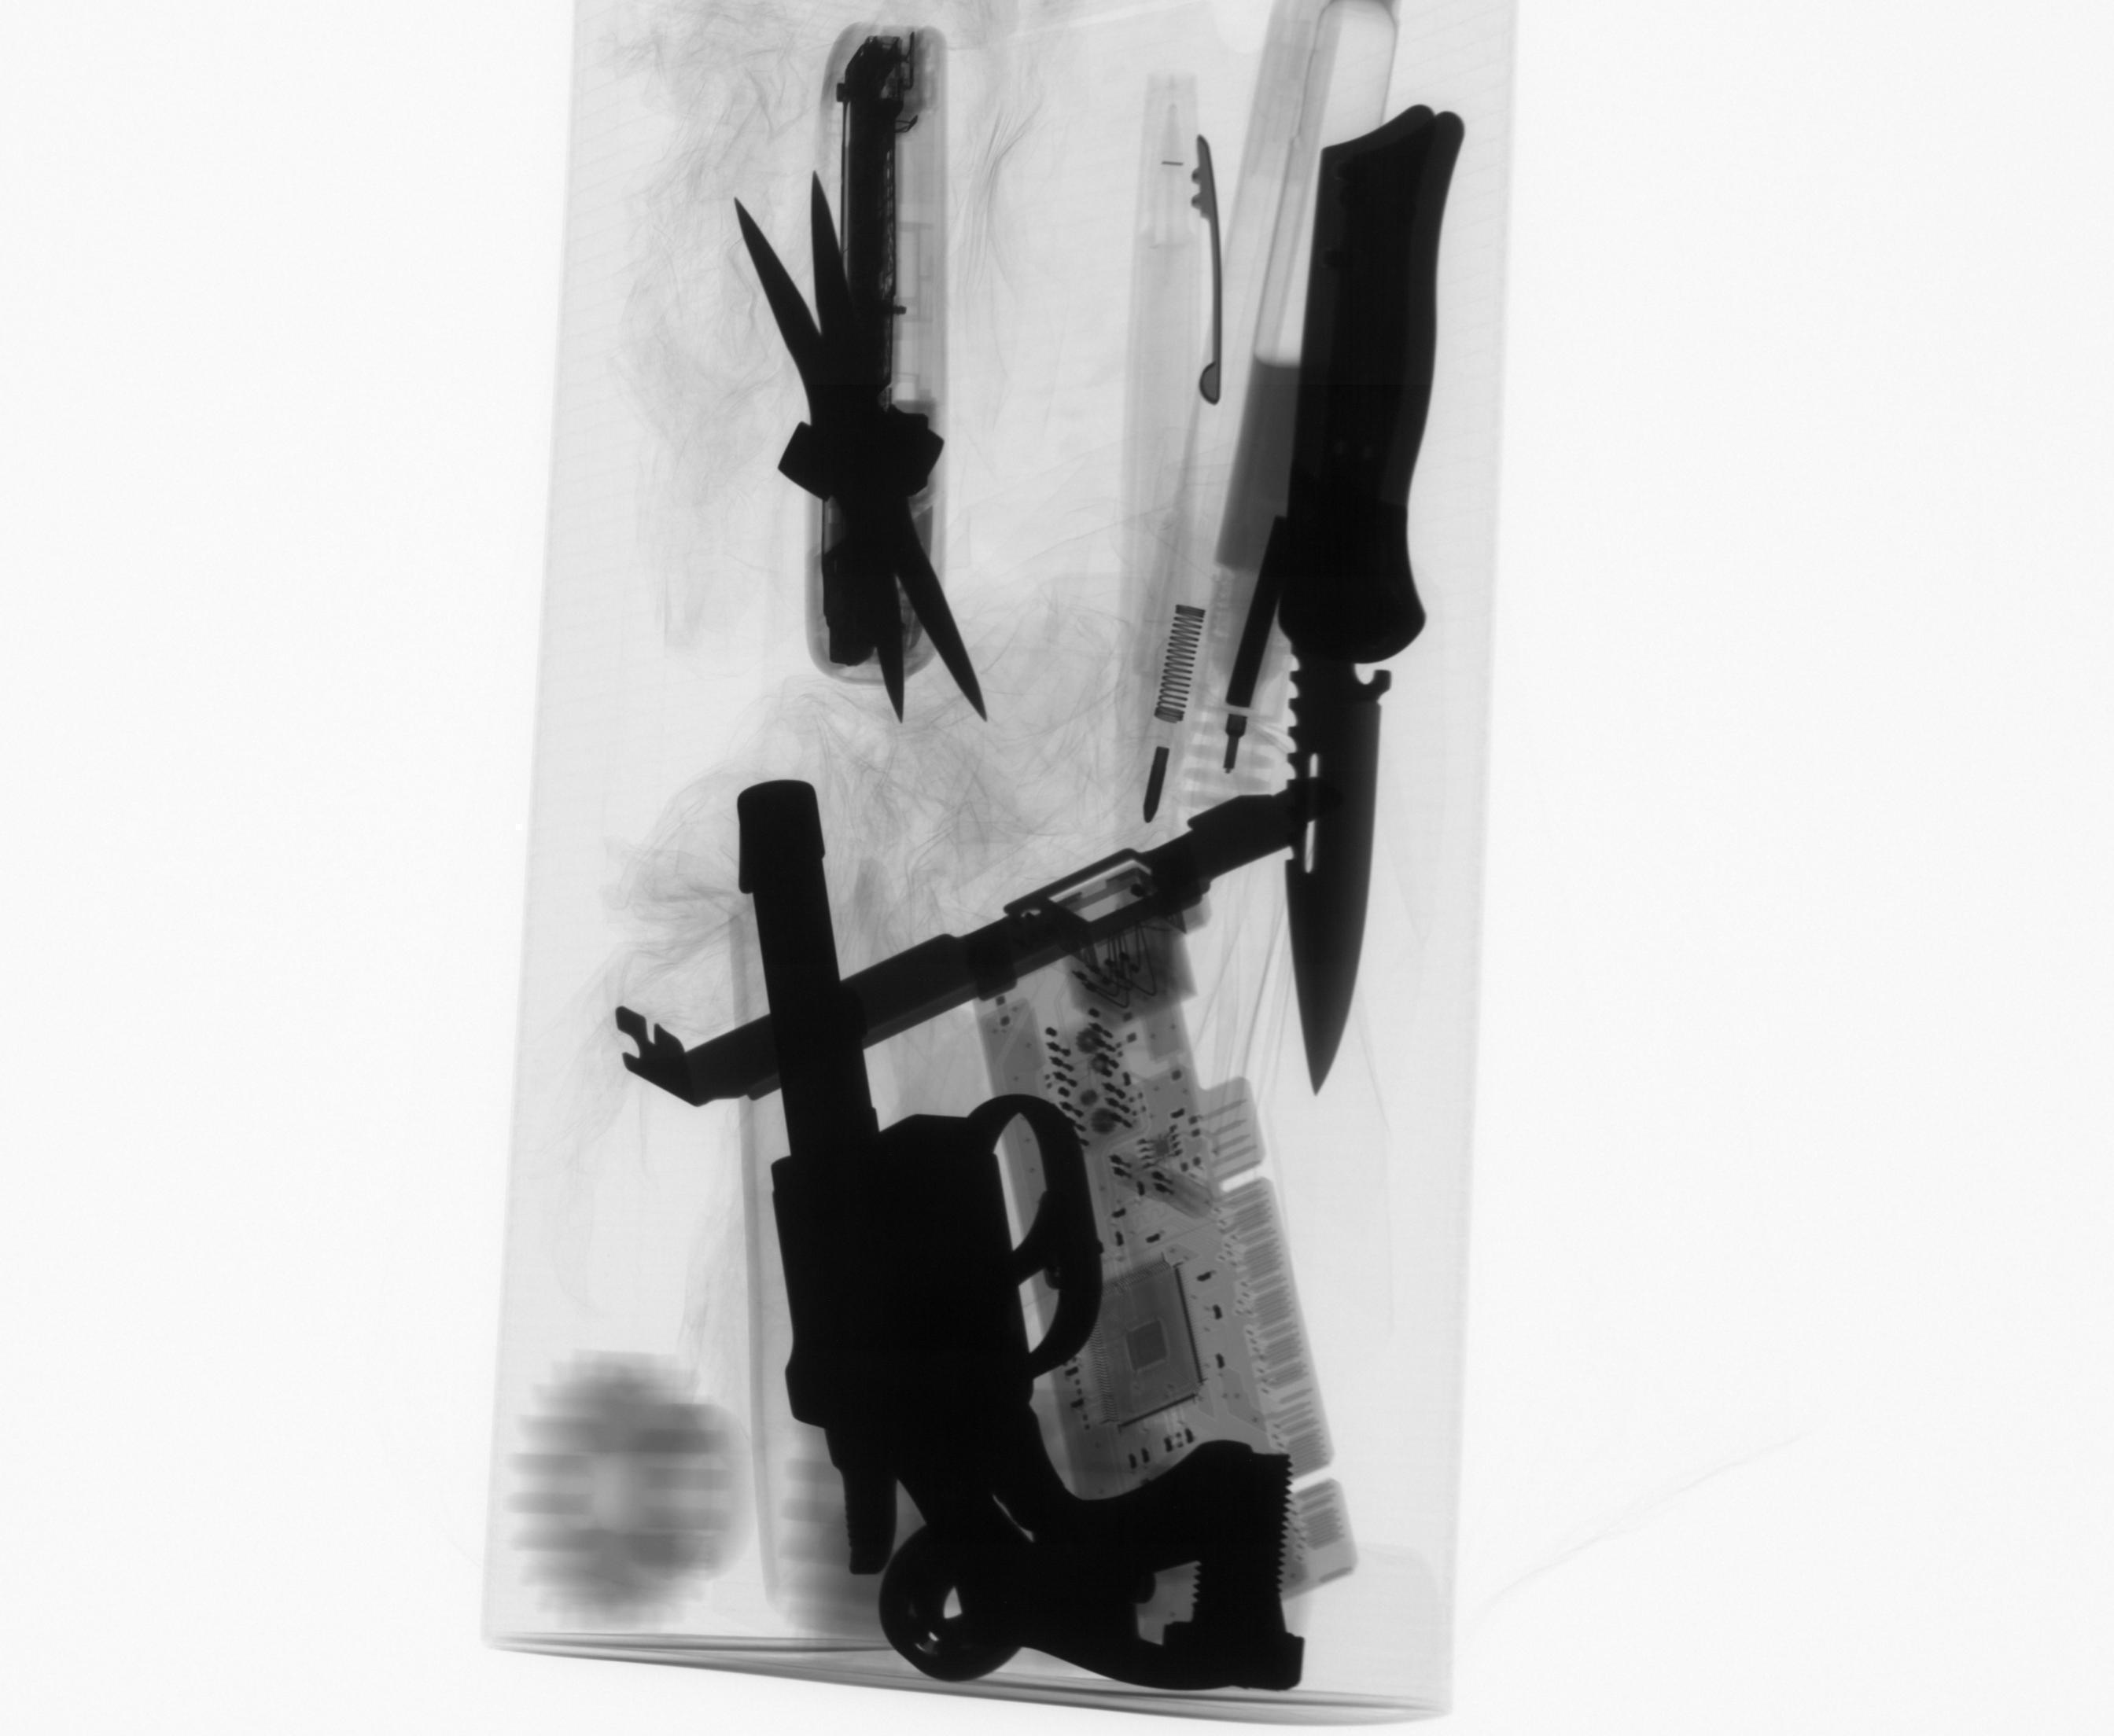Handgun: (727, 771, 1317, 1710)
Knife: (1269, 97, 1477, 1098)
Shuriken: (724, 164, 1002, 737)
